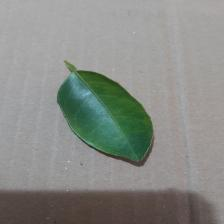greening: (65, 72, 158, 156)
